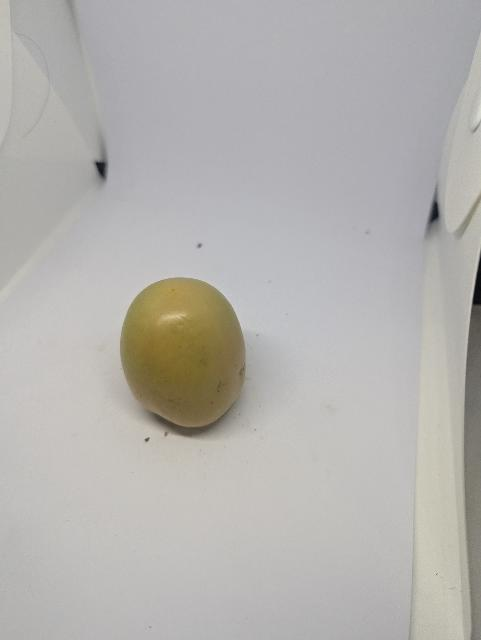breaker: (120, 278, 246, 428)
